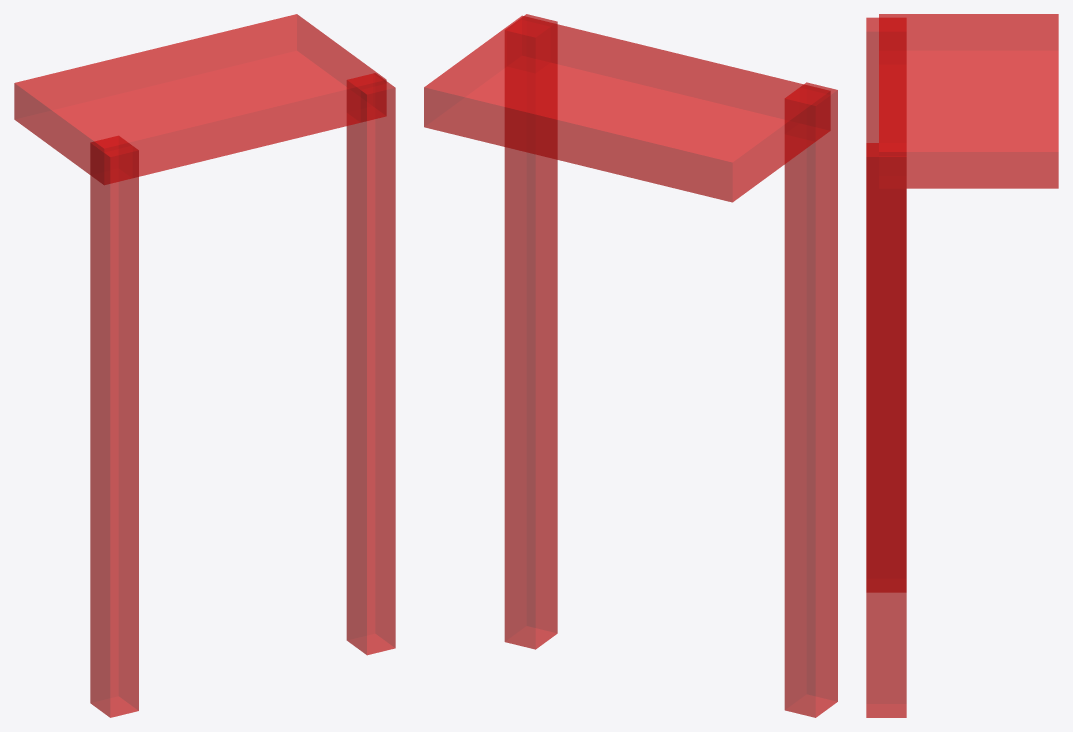
The model's file is SM_Bld_Cuba_Sunshade_02_Collision.fbx.
3 renders of one model, left to right at view 1: azimuth 30°, elevation 25°; view 2: azimuth 150°, elevation 25°; view 3: azimuth 270°, elevation 25°, orthographic. The views are drawn at different scales.
Visible parts, largest first — view 1: SM_Bld_Cuba_Sunshade_02_Collision; view 2: SM_Bld_Cuba_Sunshade_02_Collision; view 3: SM_Bld_Cuba_Sunshade_02_Collision.
Boxes of the visible parts, bbox=[...] form: SM_Bld_Cuba_Sunshade_02_Collision: bbox=[14, 14, 395, 717]; SM_Bld_Cuba_Sunshade_02_Collision: bbox=[424, 14, 837, 717]; SM_Bld_Cuba_Sunshade_02_Collision: bbox=[866, 14, 1058, 717].
Size of the model in its own units: 187 by 353 by 109.
